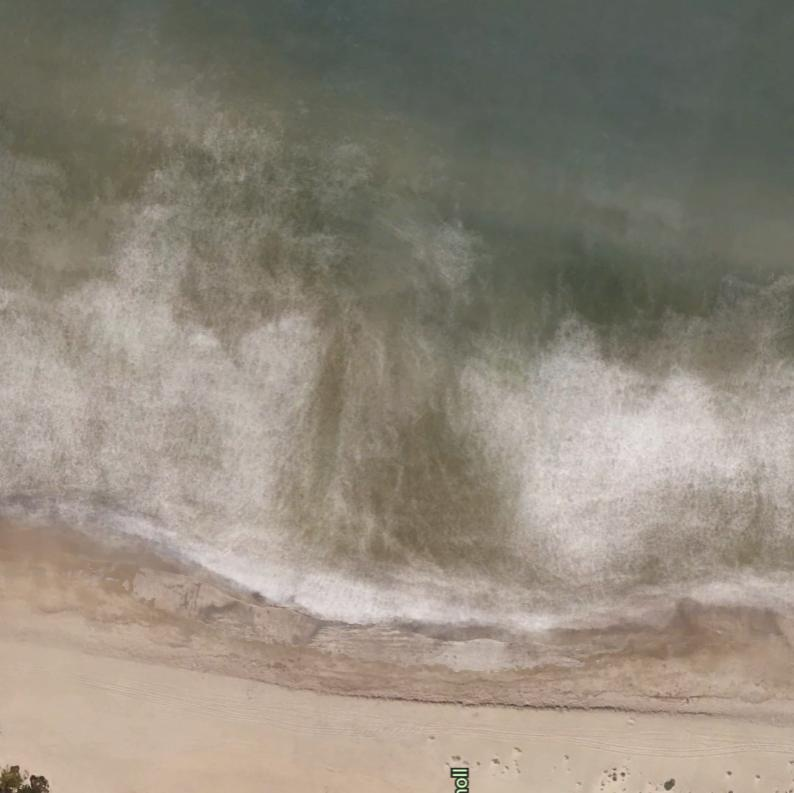rip_current: (281, 148, 518, 630)
